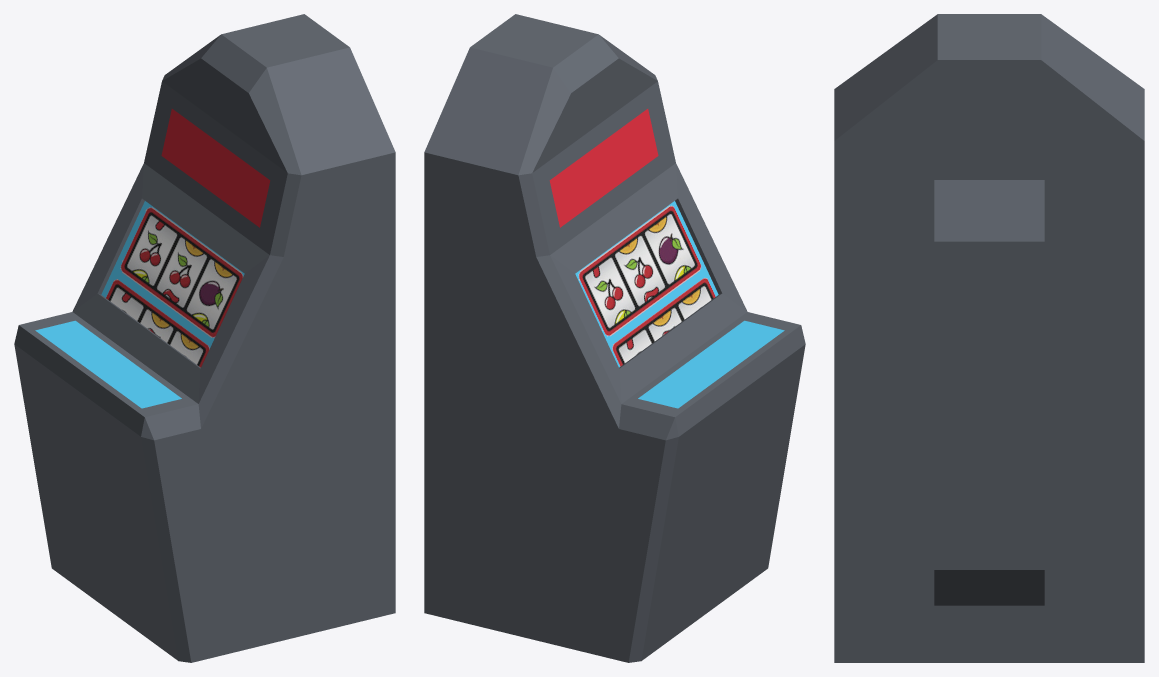
Rendered from Slot_2.fbx.
3 renders of one model, left to right at view 1: azimuth 30°, elevation 25°; view 2: azimuth 150°, elevation 25°; view 3: azimuth 270°, elevation 25°, orthographic. The views are drawn at different scales.
Parts seen in each view (by area): view 1: Slot_2; view 2: Slot_2; view 3: Slot_2.
Boxes of the visible parts, x1,y1,x2,y2 form: Slot_2: (14,14,395,662); Slot_2: (424,14,805,662); Slot_2: (834,14,1144,662).
Size of the model in its own units: 106 by 197 by 91.58.
